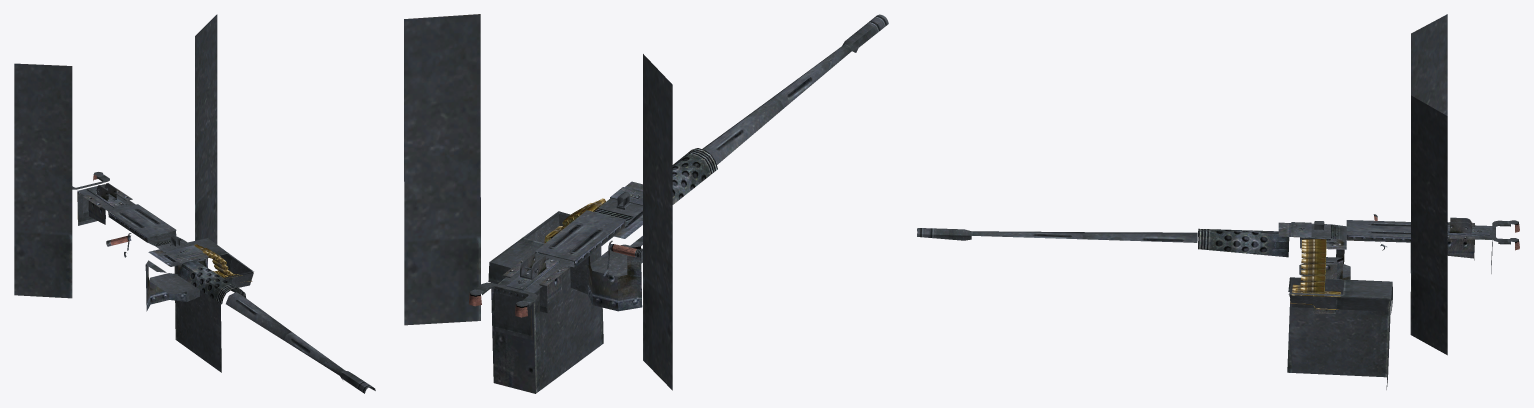
The picture shows the model from 3 angles, left to right: view 1: azimuth 30°, elevation 25°; view 2: azimuth 150°, elevation 25°; view 3: azimuth 270°, elevation 25°; orthographic projection. The views are drawn at different scales.
Visible parts, largest first — view 1: _b50b_1st; view 2: _b50b_1st; view 3: _b50b_1st.
Part boxes in pixels (<box>): _b50b_1st: <box>14,14,375,393</box>; _b50b_1st: <box>404,14,888,393</box>; _b50b_1st: <box>917,14,1519,389</box>.
Bounding box in the file's own units: 0.5871 × 0.7966 × 1.46.
3 materials, 3 textured.
